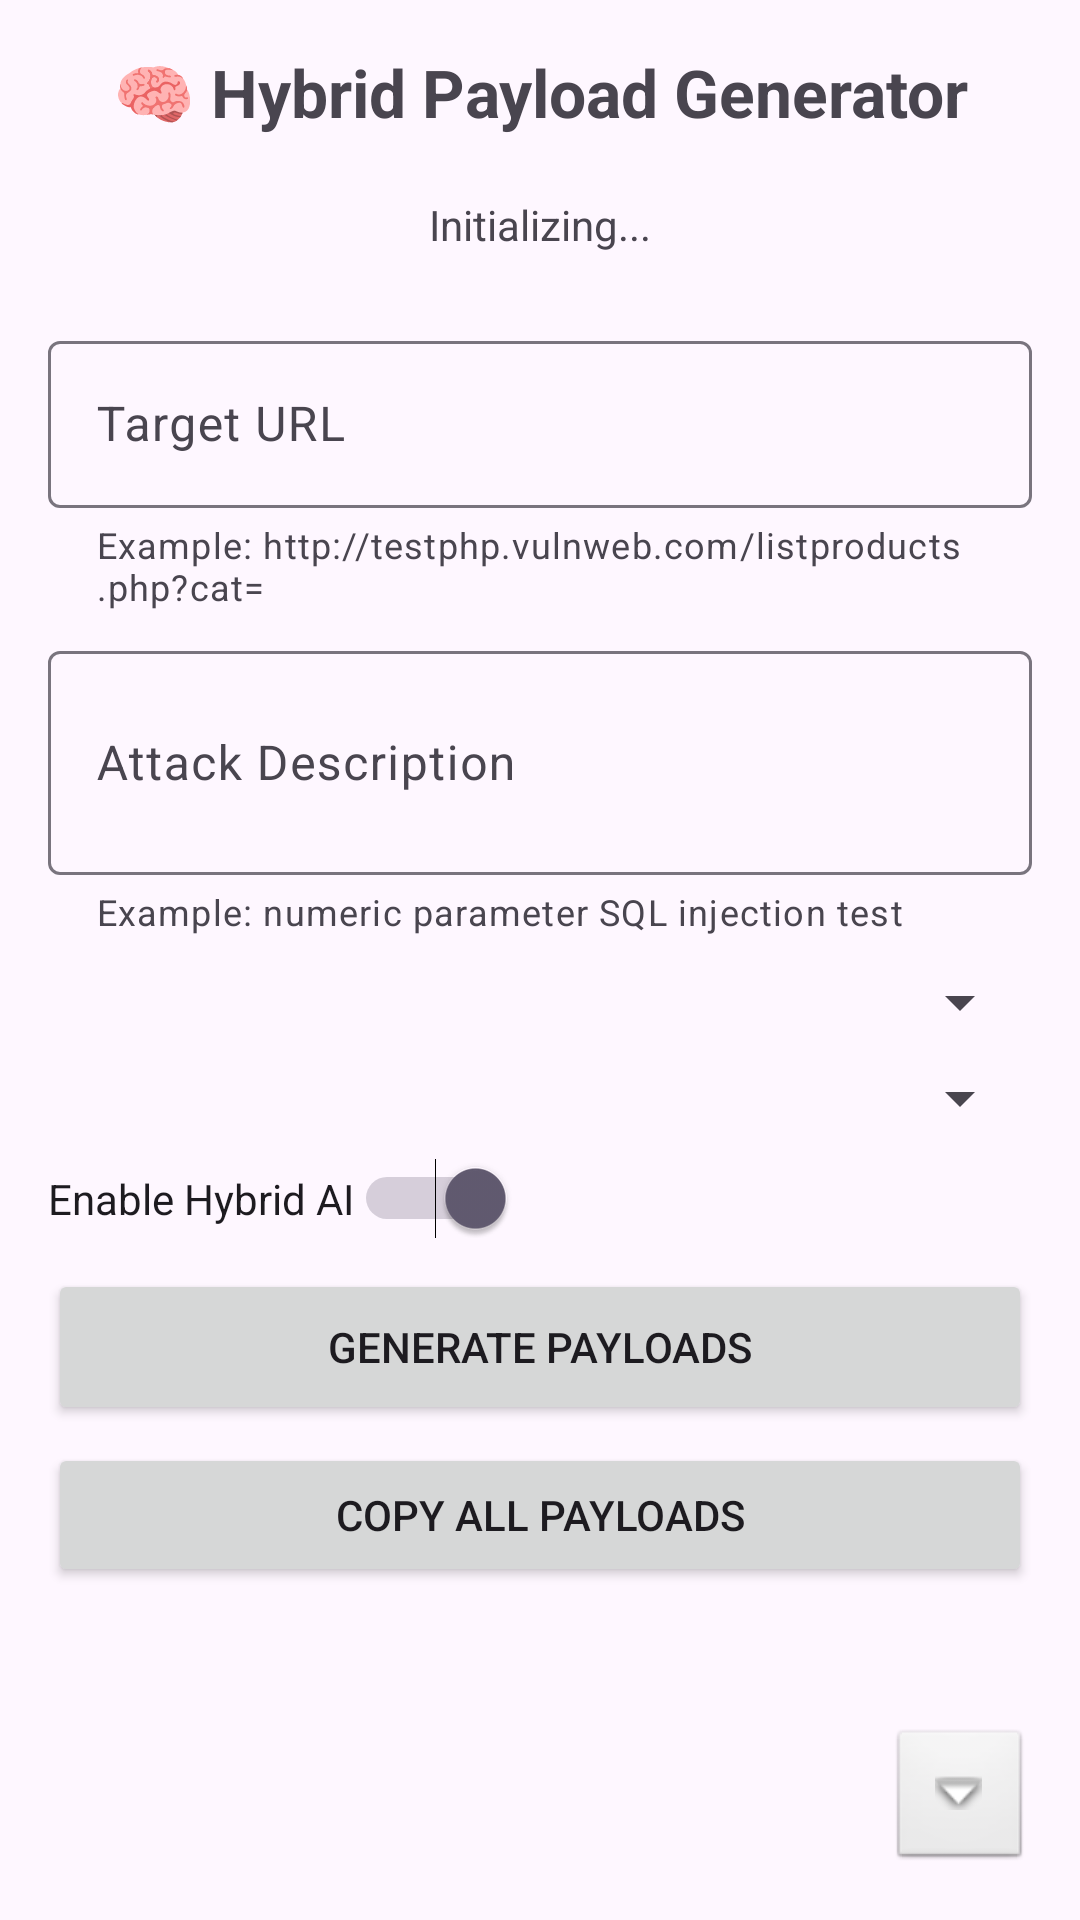

Icons on this 1080*1920 Android screen, each with its box as bbox=[x1, y1, x2, y2]:
Scroll Bottom: bbox=[896, 1730, 1023, 1860]
